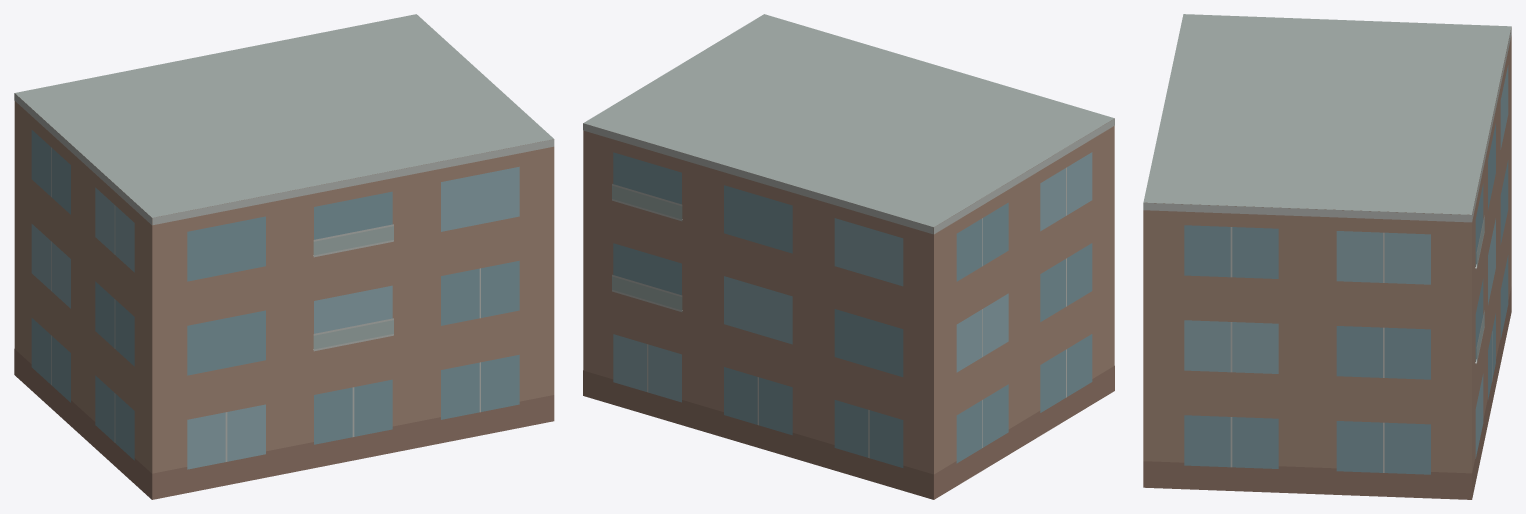
The model's file is survey-upis-33019104.glb.
3 renders of one model, left to right at view 1: azimuth 30°, elevation 25°; view 2: azimuth 150°, elevation 25°; view 3: azimuth 270°, elevation 25°, orthographic. The views are drawn at different scales.
Parts seen in each view (by area): view 1: survey-upis-33019104.tmp; view 2: survey-upis-33019104.tmp; view 3: survey-upis-33019104.tmp.
Part boxes in pixels (box(x1,y1,x2,y2)): survey-upis-33019104.tmp: box(14, 14, 554, 499); survey-upis-33019104.tmp: box(583, 14, 1114, 499); survey-upis-33019104.tmp: box(1143, 14, 1511, 499).
Size of the model in its own units: 13.84 by 9.15 by 10.73.
